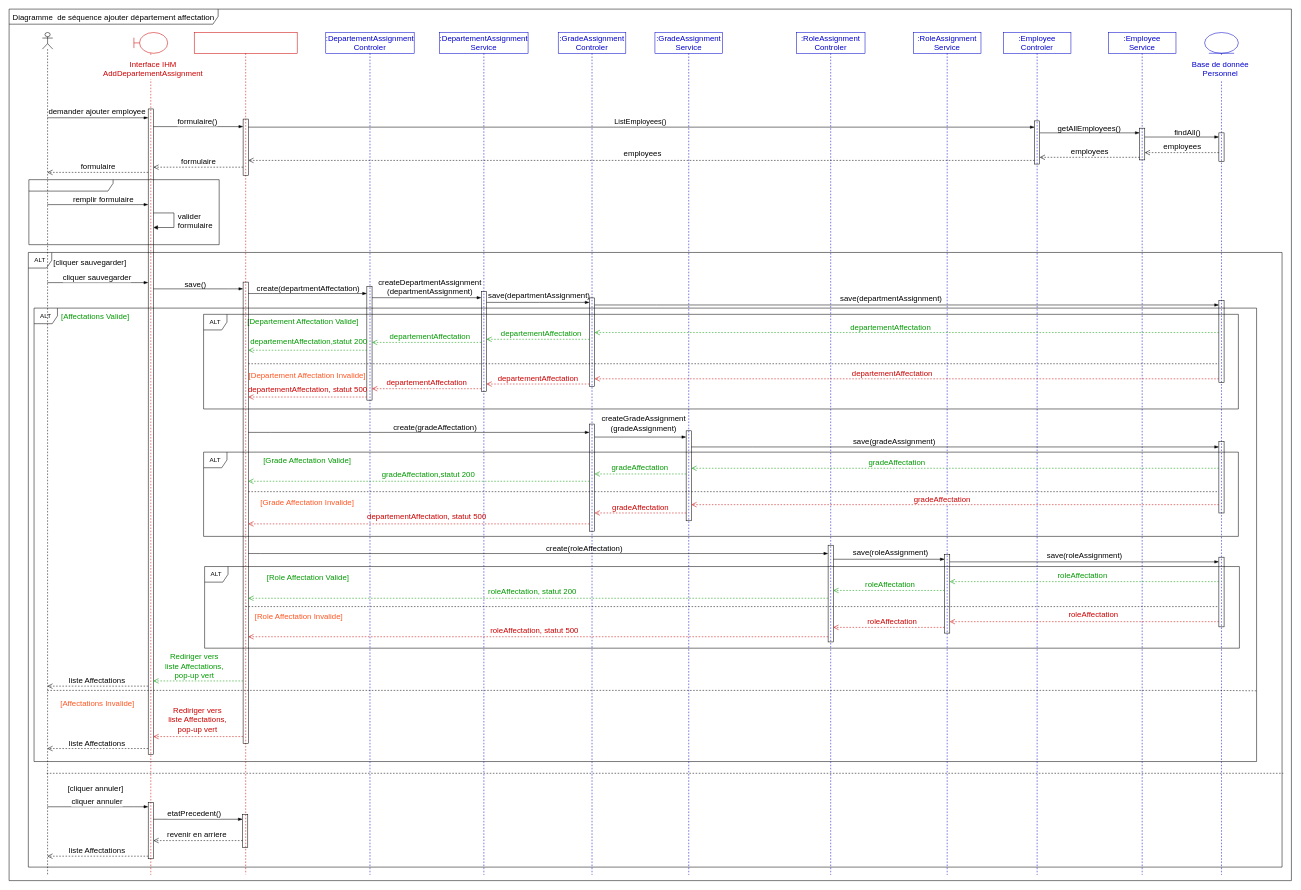
Image size: 1301x890. Some labels were removed from this diagram. The shapes that lost their labels are listed below. From the top down, each one's box as (x1, y1, x2, y2) in pixels, then its label:
(28, 179, 219, 245): alt: formulaire valide
(42, 32, 53, 875): Administrateur
(194, 32, 297, 874): <<component>> AddDepartementAssignment
